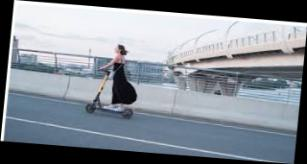nonhelmet: (83, 40, 144, 120)
